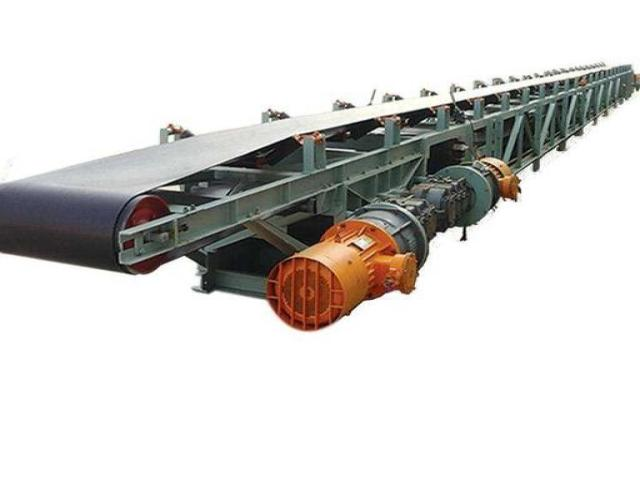conveyor: (1, 0, 640, 335)
